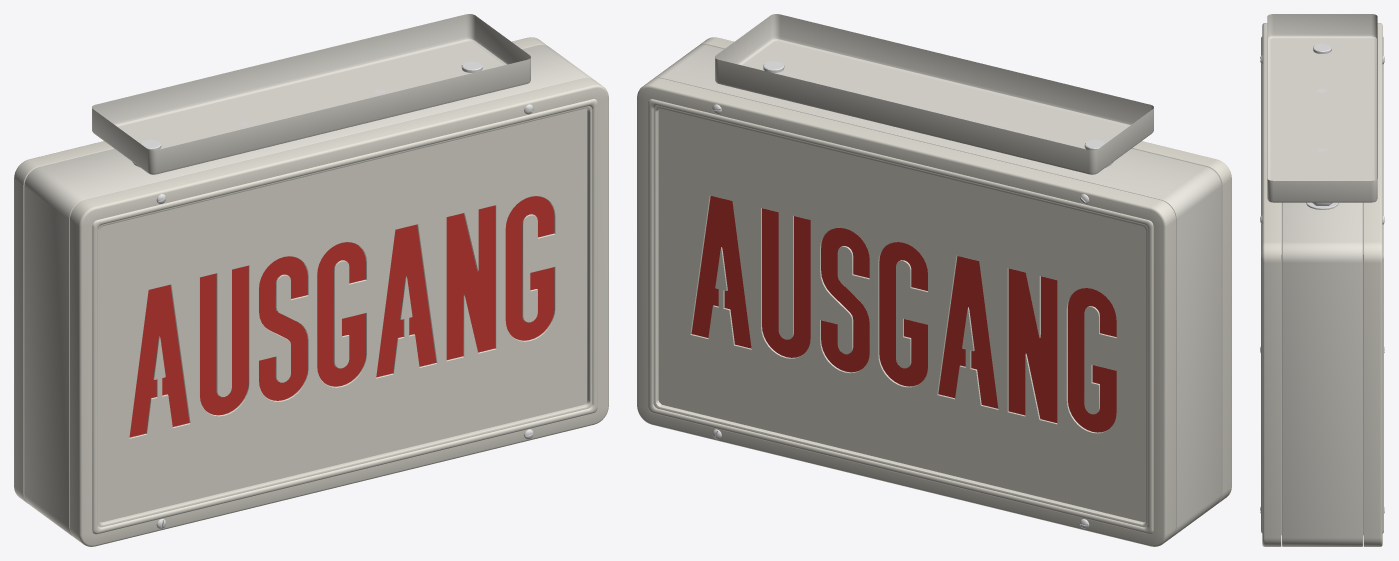
The model's file is Kit_ExitSign_HangingFlush.fbx.
The picture shows the model from 3 angles, left to right: view 1: azimuth 30°, elevation 25°; view 2: azimuth 150°, elevation 25°; view 3: azimuth 270°, elevation 25°; orthographic projection. The views are drawn at different scales.
Parts seen in each view (by area): view 1: Kit_ExitSign_HangingFlush_LOD0; view 2: Kit_ExitSign_HangingFlush_LOD0; view 3: Kit_ExitSign_HangingFlush_LOD0.
Part boxes in pixels (bbox=[...]): Kit_ExitSign_HangingFlush_LOD0: bbox=[14, 14, 608, 546]; Kit_ExitSign_HangingFlush_LOD0: bbox=[637, 14, 1231, 546]; Kit_ExitSign_HangingFlush_LOD0: bbox=[1260, 14, 1384, 546].
Size of what is drawn, in the model's own units: 0.346 by 0.237 by 0.0789.
